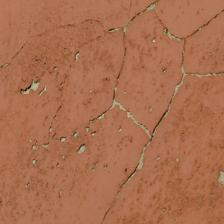Crack: (60, 36, 123, 117), (6, 100, 47, 193), (1, 32, 79, 71), (0, 31, 66, 75), (101, 55, 123, 166), (13, 22, 52, 46), (60, 51, 78, 72)
